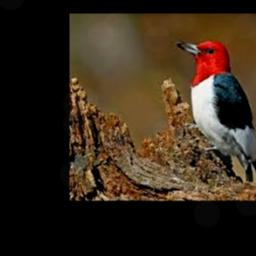Woodpecker: (176, 39, 256, 184)
